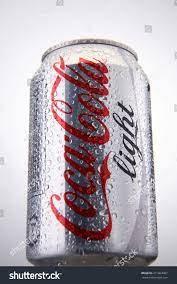can: (23, 29, 161, 269)
